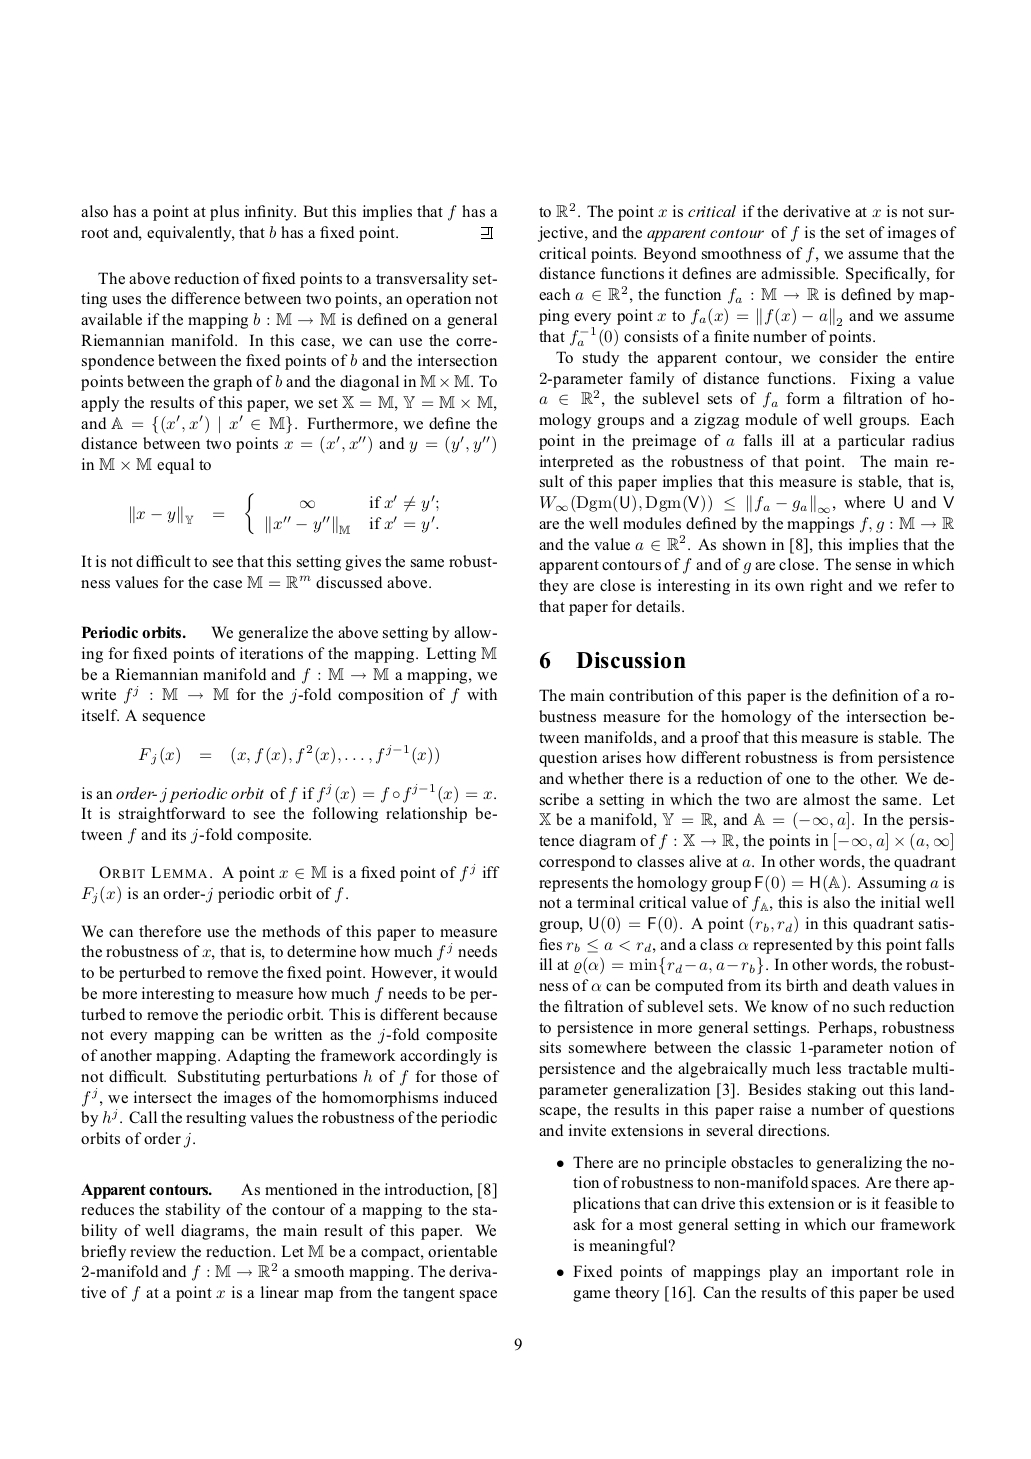formula: (131, 492, 439, 534), (138, 744, 439, 765)
